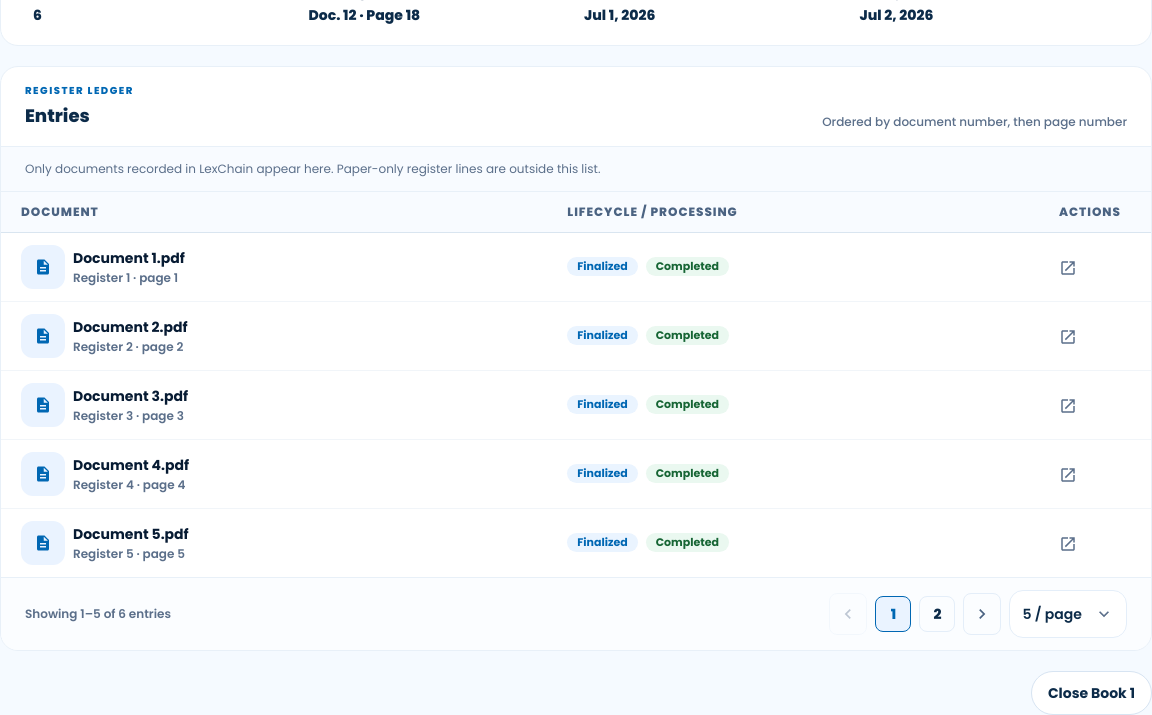
Test case: BookRoutePage › matches the documents page-size selector and refetches the selected count
The width and height of the screenshot is (1152, 715).
(page scrolled)
Expected: the link with aria-label "Open Document 5.pdf" is shown, top-left (1, 508), bottom-right (1151, 576)
Expected: the number of links named "Open Document" is 5, top-left (1, 232), bottom-right (1151, 300); top-left (1, 302), bottom-right (1151, 370); top-left (1, 370), bottom-right (1151, 438); top-left (1, 440), bottom-right (1151, 508); top-left (1, 508), bottom-right (1151, 576)
Click the dropdown at (1068, 614), box top-left (1009, 590), bottom-right (1127, 638)
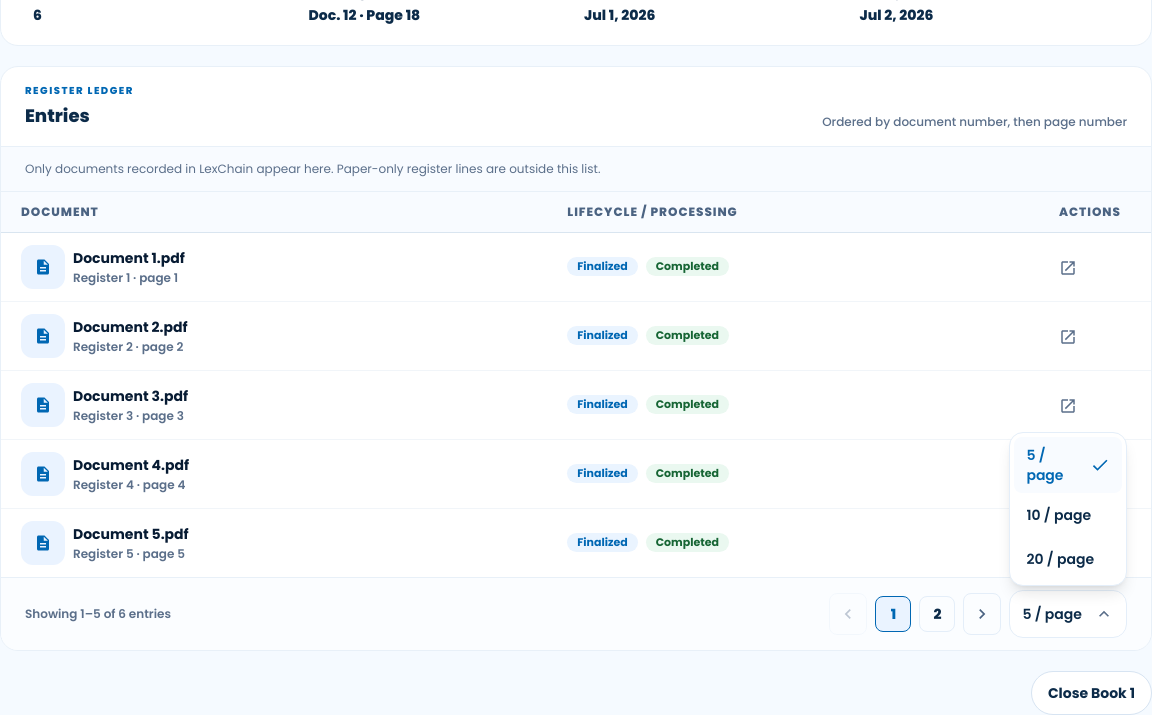
Click the option "10 / page" at (1059, 514), box top-left (1026, 504), bottom-right (1091, 524)
(page scrolled)
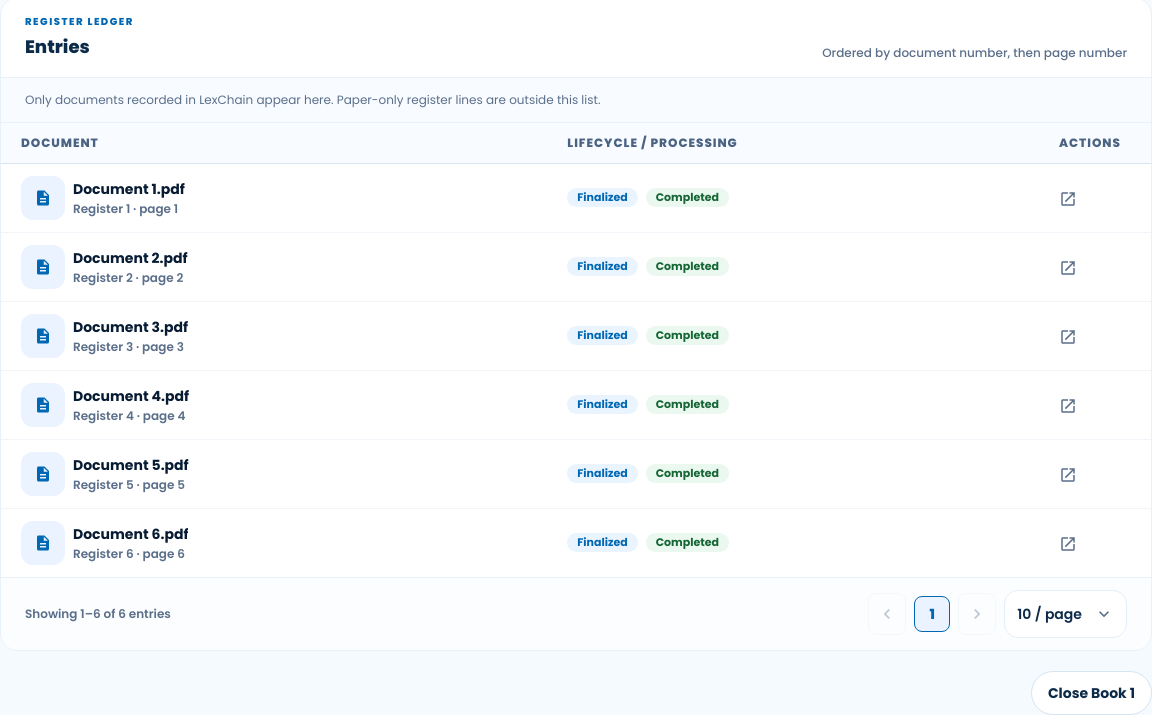
Now the link with aria-label "Open Document 6.pdf" is shown, box top-left (1, 508), bottom-right (1151, 576)
Now the number of links named "Open Document" is 6, box top-left (1, 164), bottom-right (1151, 232); top-left (1, 232), bottom-right (1151, 300); top-left (1, 302), bottom-right (1151, 370); top-left (1, 370), bottom-right (1151, 438); top-left (1, 440), bottom-right (1151, 508); top-left (1, 508), bottom-right (1151, 576)
Now the text "Showing 1–6 of 6 entries" is shown, box top-left (25, 606), bottom-right (171, 622)
